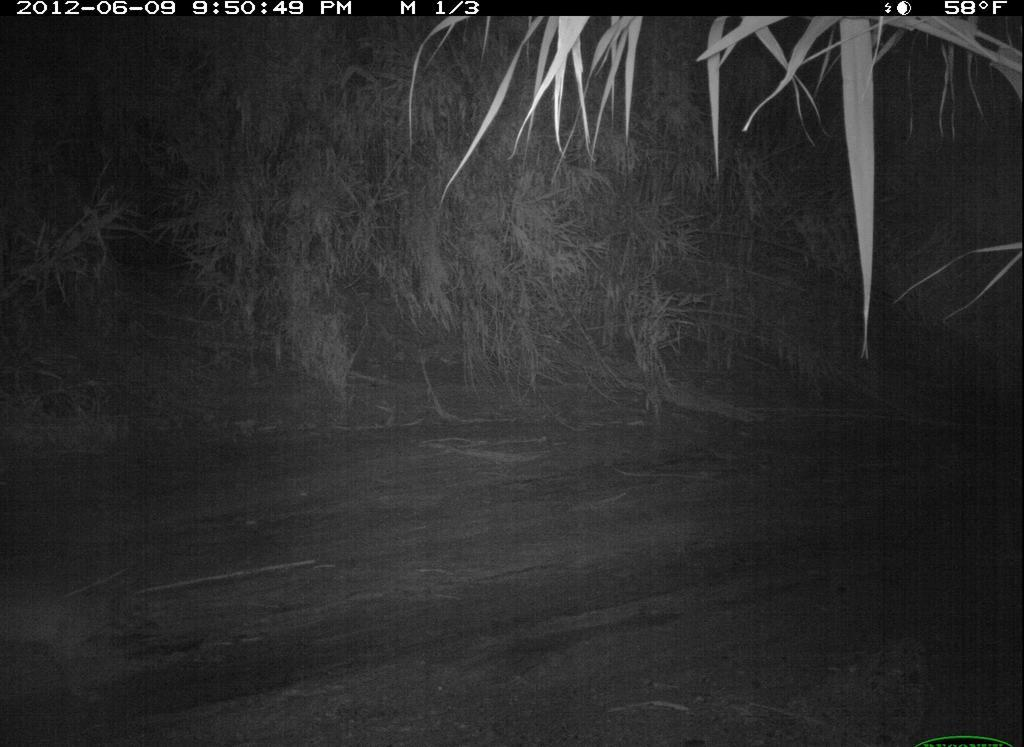bobcat: (3, 574, 162, 719)
